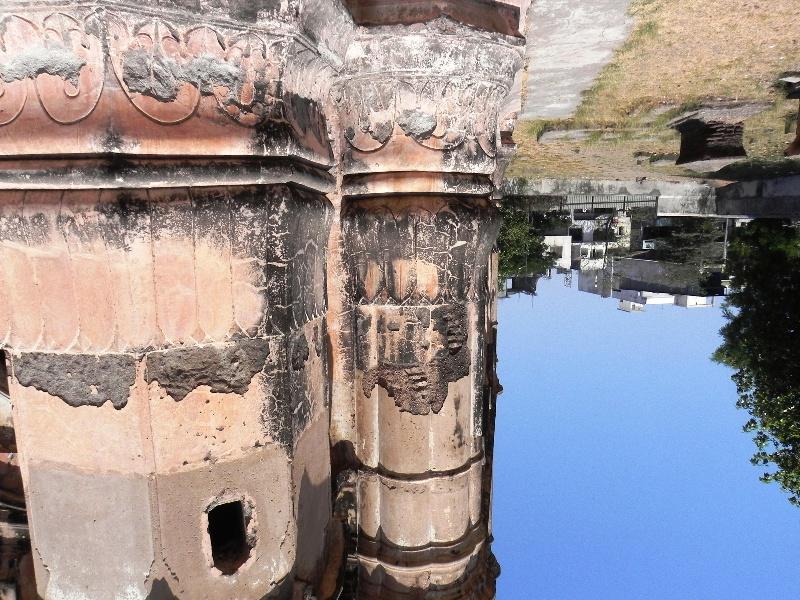Spalling: (9, 335, 284, 415), (363, 305, 471, 425)
